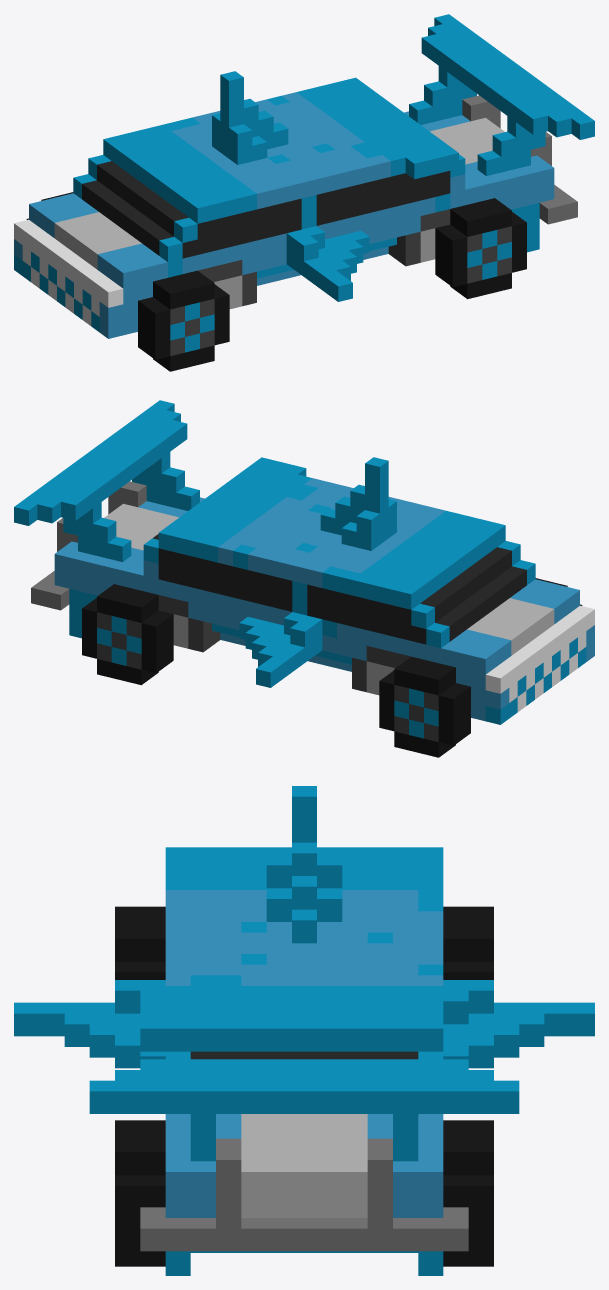
File: car_03.glb
The picture shows the model from 3 angles, top to bottom: view 1: azimuth 30°, elevation 25°; view 2: azimuth 150°, elevation 25°; view 3: azimuth 270°, elevation 25°; orthographic projection. The views are drawn at different scales.
Parts seen in each view (by area): view 1: ObjObject; view 2: ObjObject; view 3: ObjObject.
Boxes of the visible parts, x1,y1,x2,y2 form: ObjObject: (14, 14, 594, 371); ObjObject: (14, 400, 594, 757); ObjObject: (14, 786, 594, 1275).
Size of the model in its own units: 3.1 by 1.4 by 2.3.
Materials: 1 (1 with a texture image).
